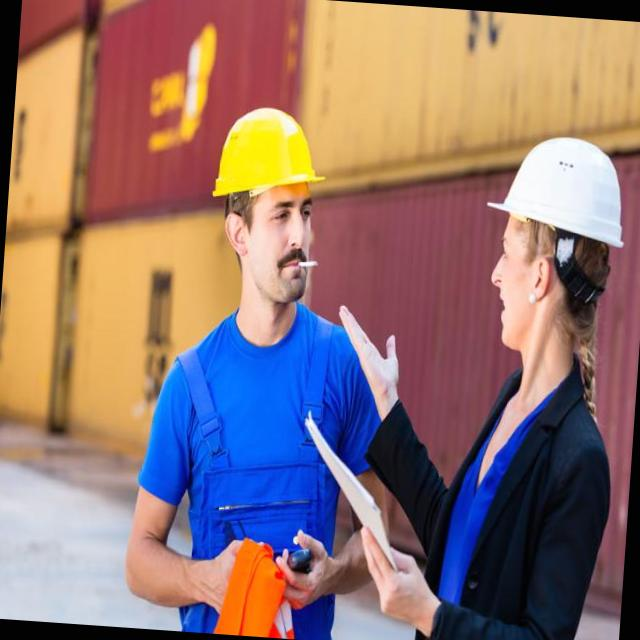cigarette: (290, 249, 320, 276)
